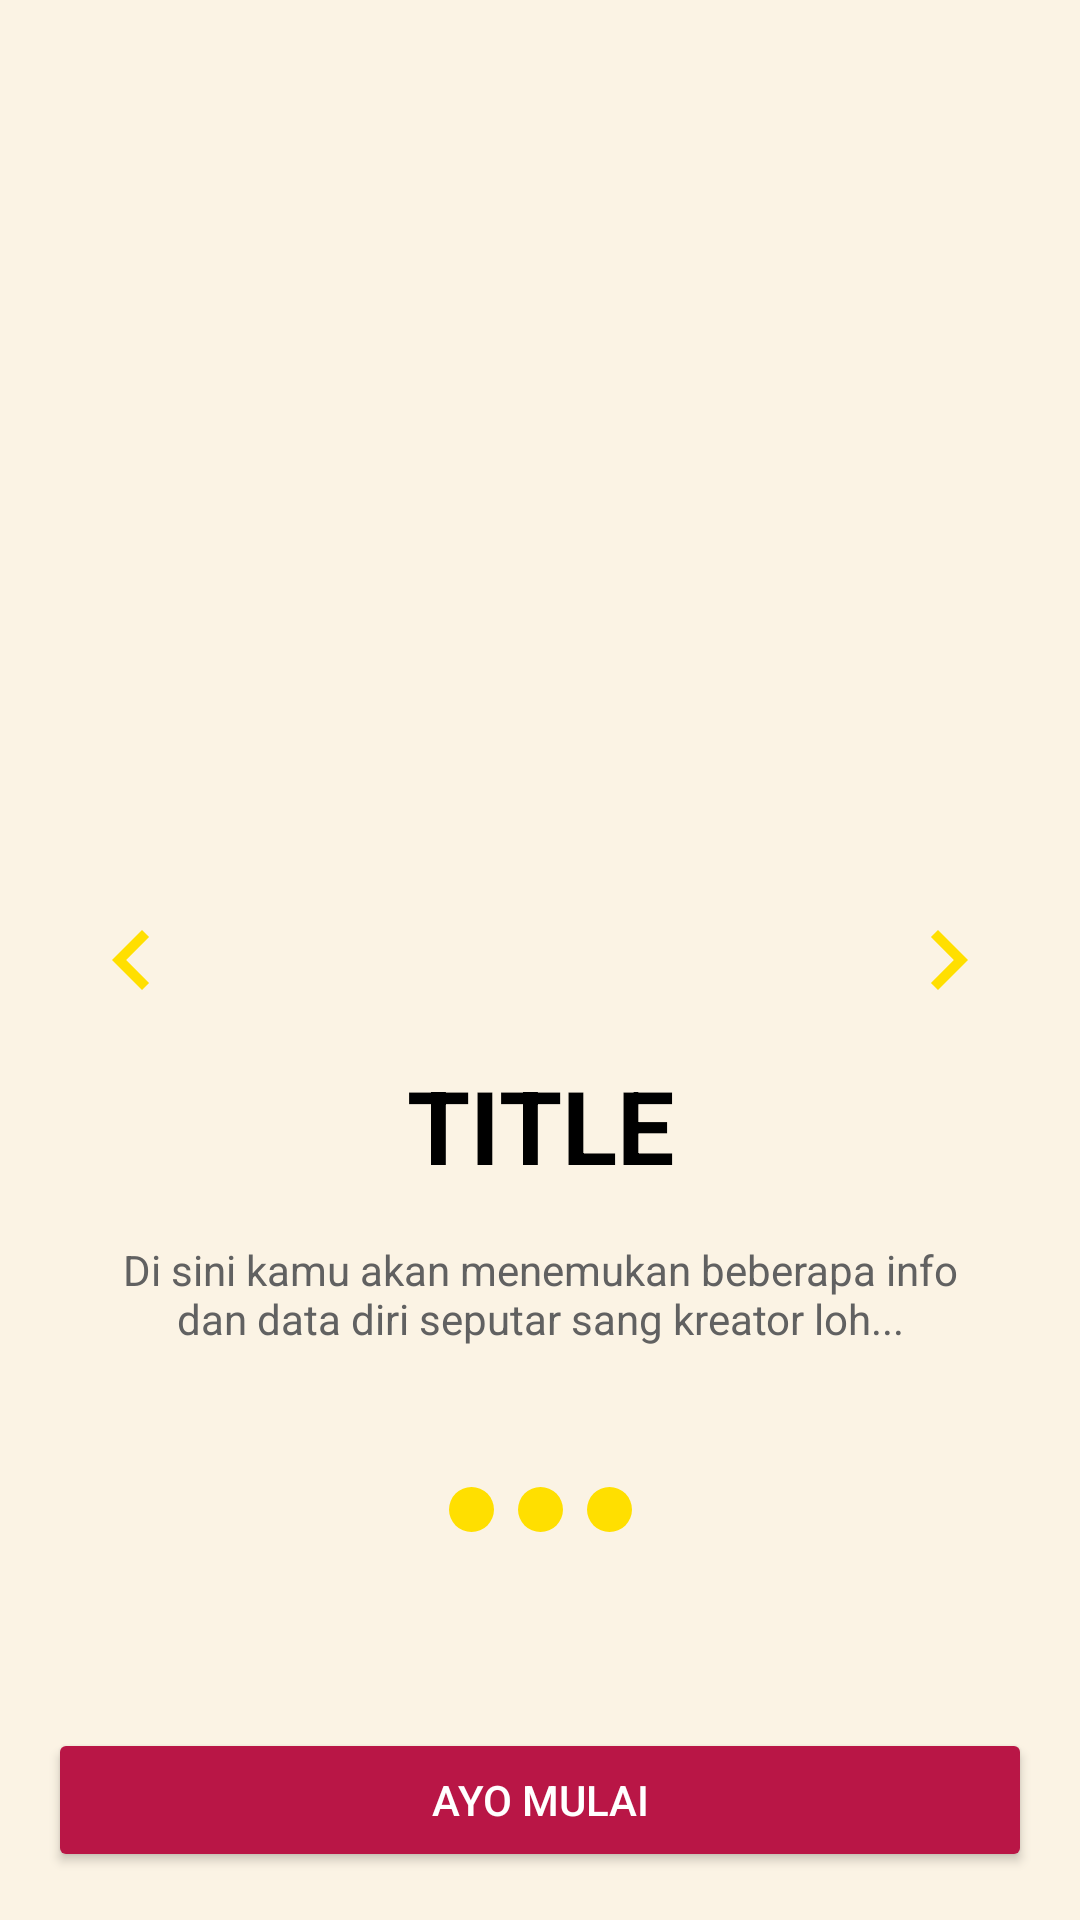

Named icons in this screenshot (1080 x 1920) and their centers, (x,y):
back: (130,960)
next: (949,960)
